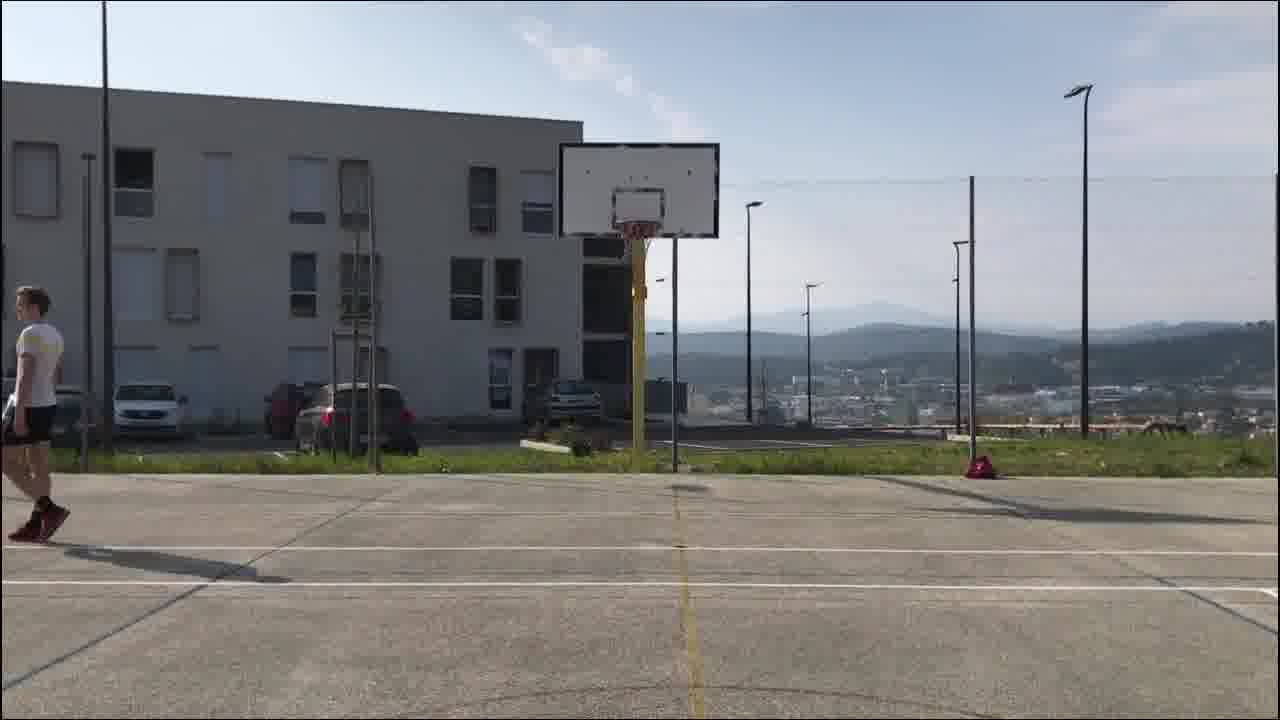jugador: (0, 268, 87, 556)
